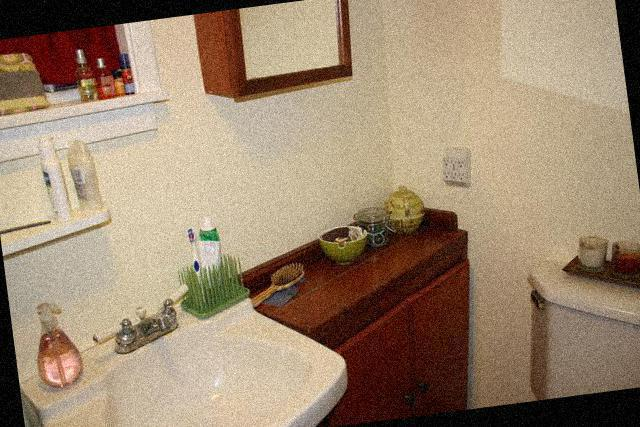Lavamanos: (8, 251, 355, 427)
